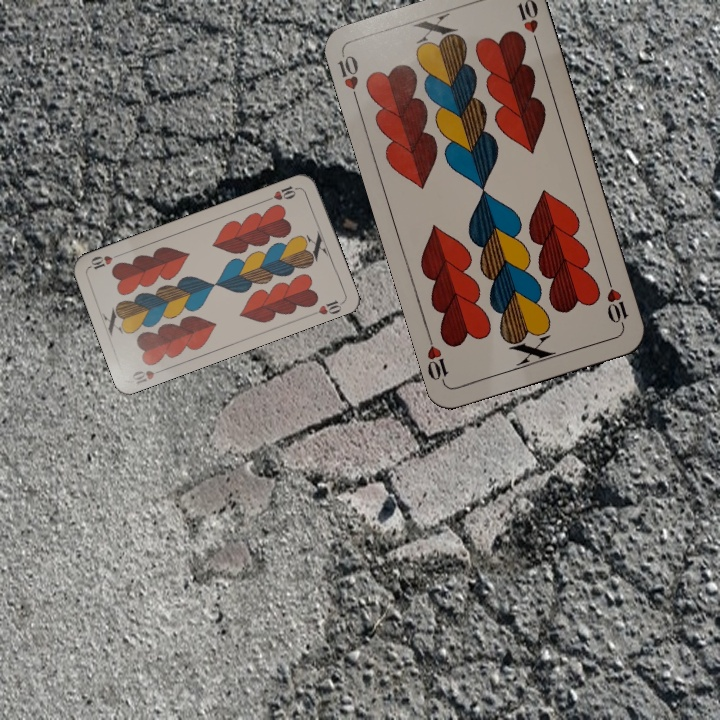H10: (602, 272, 632, 330), (334, 49, 362, 107), (128, 364, 168, 387), (263, 181, 302, 203)
